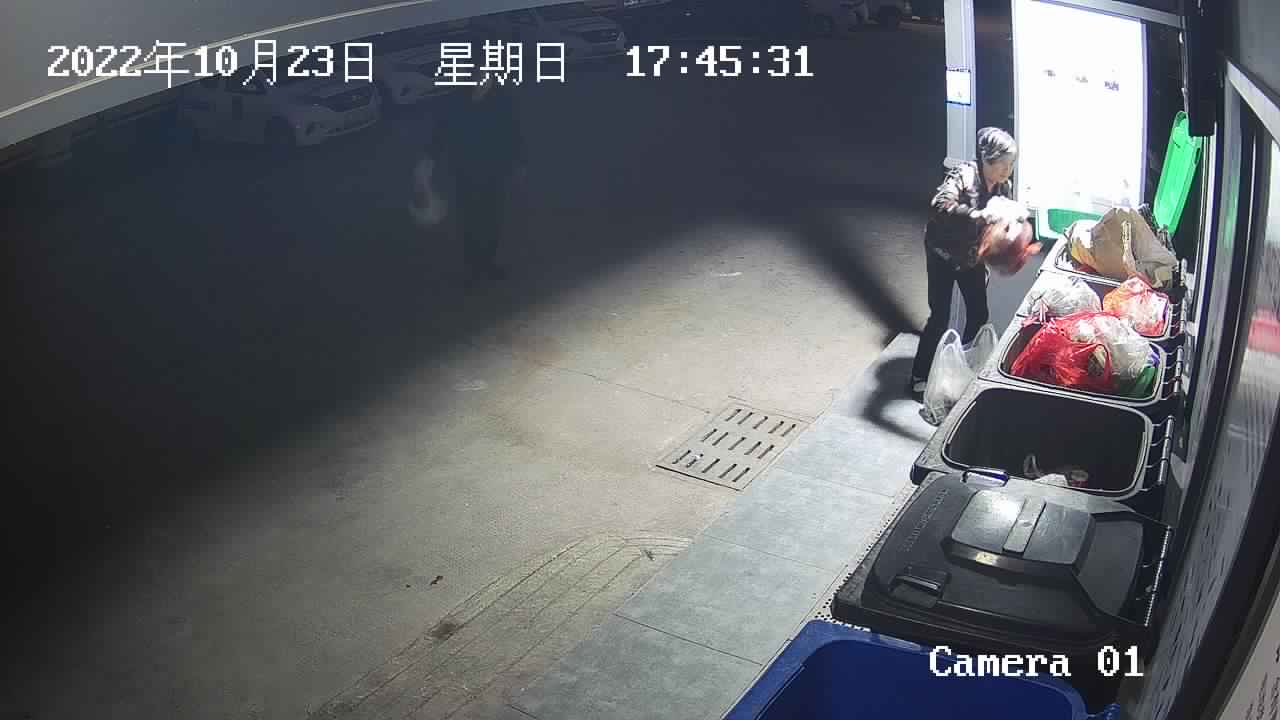garbage-bag: (916, 320, 1000, 427), (972, 193, 1046, 275)
person: (909, 125, 1019, 401)
